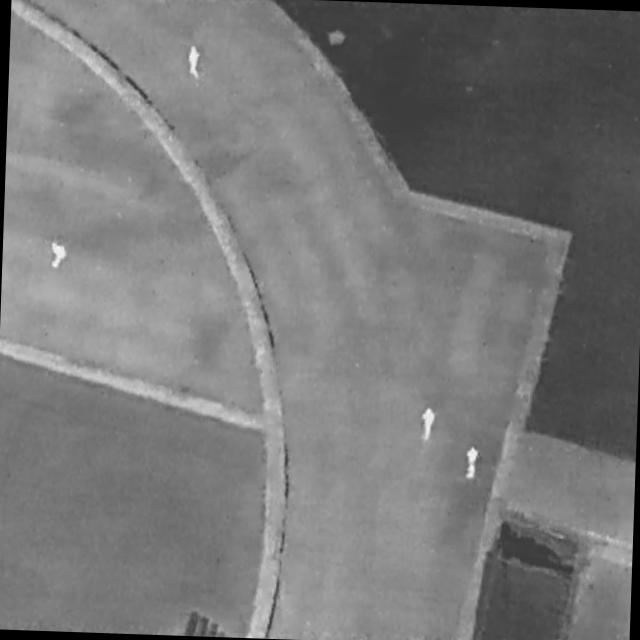person: (49, 239, 68, 270), (421, 405, 435, 444), (187, 44, 202, 77), (466, 447, 479, 482)
